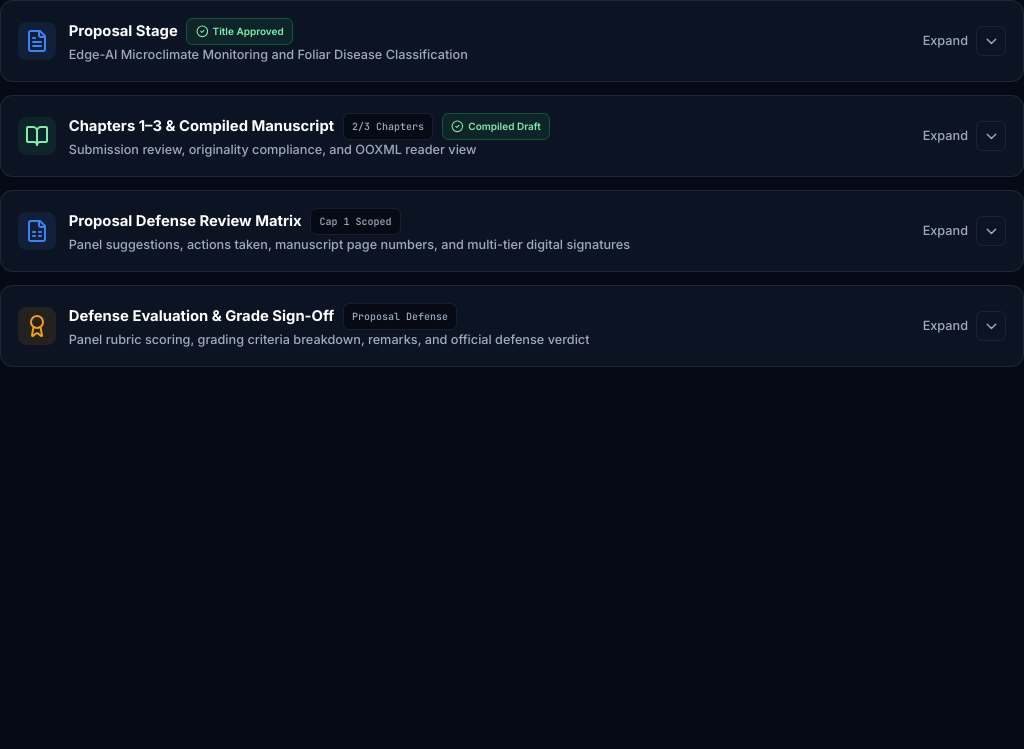
Scenario: Capstone1CollapsibleSections Component Suite › expands Proposal Stage and renders 5-point blueprint upon click
The image size is (1024, 749).
Step 1. Click the button with test id "toggle-proposal-stage" → (37, 41), box [1,1,1023,81]
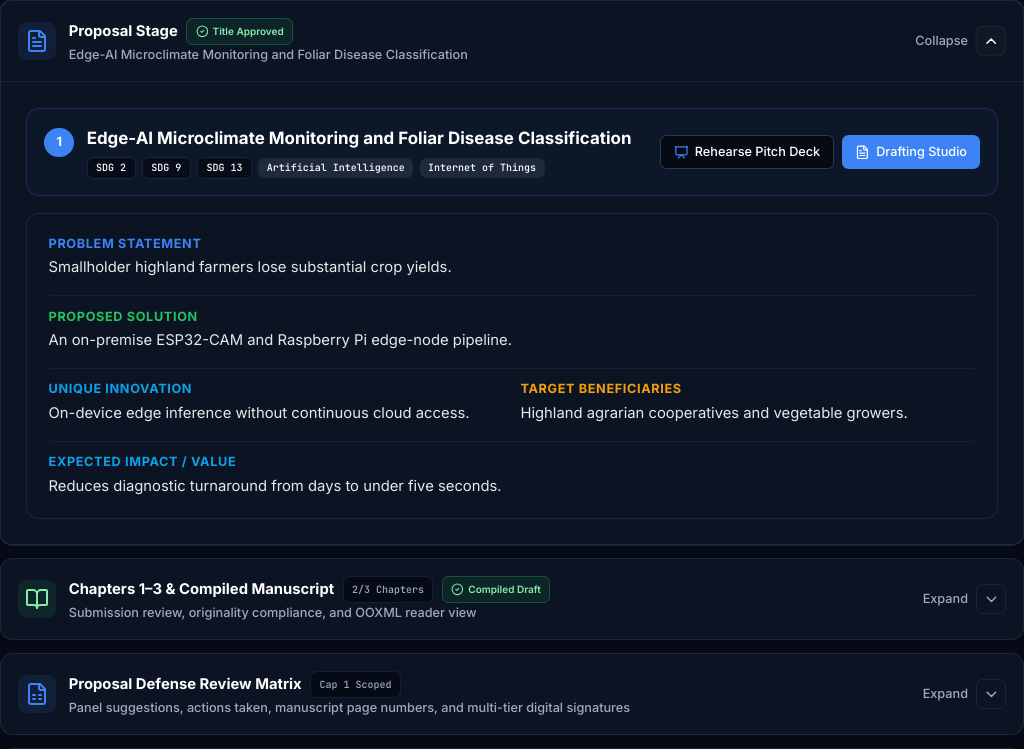
Expected: the button with test id "toggle-proposal-stage" is expanded, [1,1,1023,81]
Expected: the text "Problem Statement" is shown, [48,236,202,251]
Expected: the text "Smallholder highland farmers lose substantial crop yields." is shown, [48,258,452,276]
